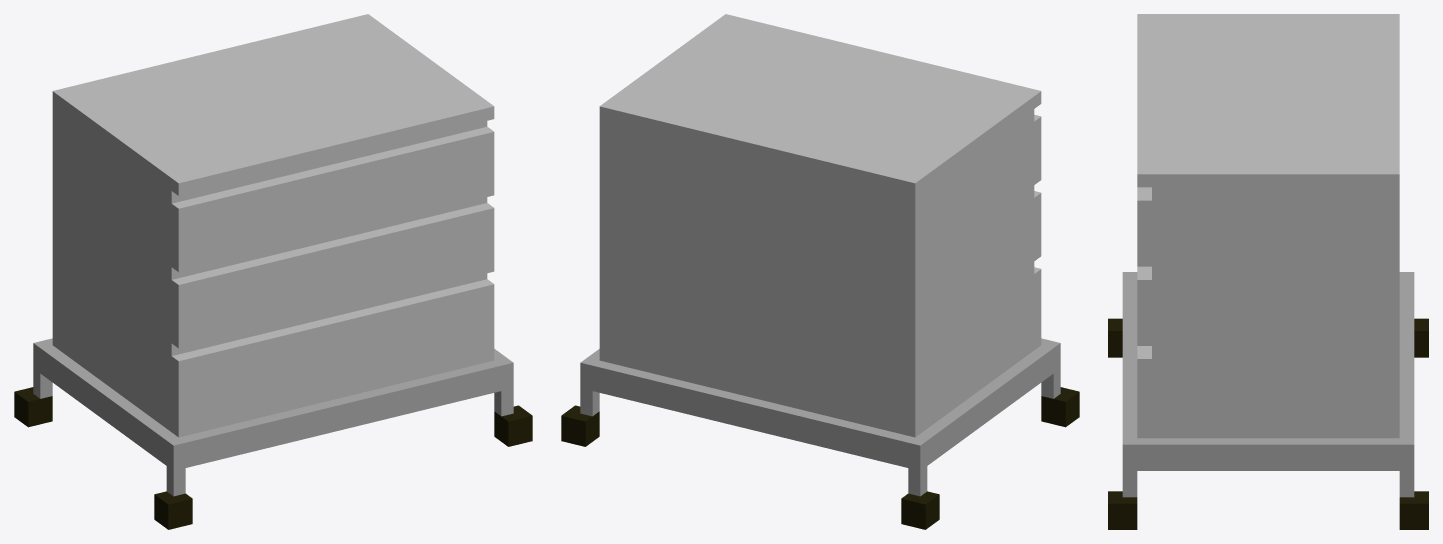
Rendered from Operating_room_Equip3.fbx.
The picture shows the model from 3 angles, left to right: view 1: azimuth 30°, elevation 25°; view 2: azimuth 150°, elevation 25°; view 3: azimuth 270°, elevation 25°; orthographic projection. The views are drawn at different scales.
Parts seen in each view (by area): view 1: Operating room Equip3; view 2: Operating room Equip3; view 3: Operating room Equip3.
Part boxes in pixels (x1,y1,x2,y2): Operating room Equip3: (14,14,532,529); Operating room Equip3: (561,14,1079,529); Operating room Equip3: (1108,14,1428,529).
Size of the model in its own units: 300 by 260 by 220.
